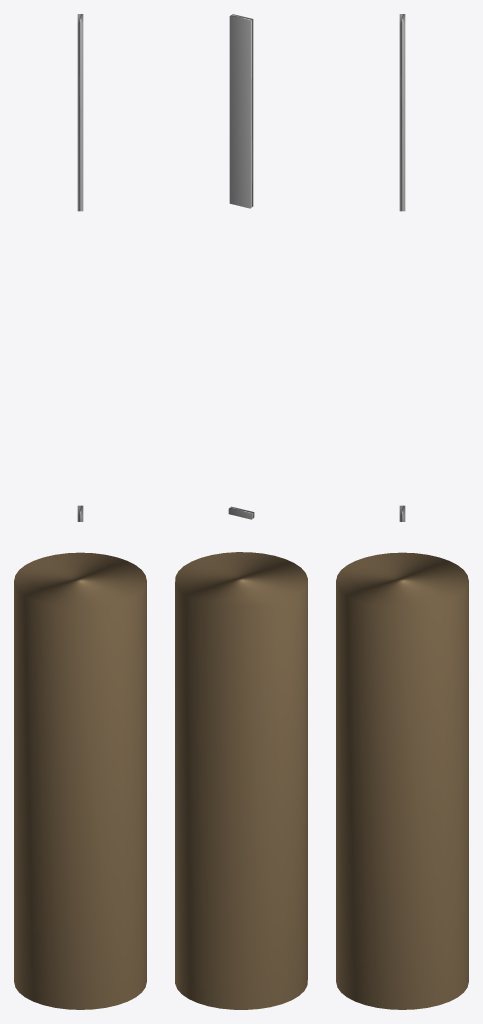
The model's file is IronSword.glb.
The picture shows the model from 3 angles, left to right: view 1: azimuth 90°, elevation 25°; view 2: azimuth 150°, elevation 25°; view 3: azimuth 270°, elevation 25°; orthographic projection.
Parts seen in each view (by area): view 1: Cube; view 2: Cube; view 3: Cube.
Part boxes in pixels (x1,y1,x2,y2): Cube: (14,14,146,1009); Cube: (175,14,307,1009); Cube: (336,14,468,1009).
Bounding box in the file's own units: 0.036 × 0.288 × 0.036.
